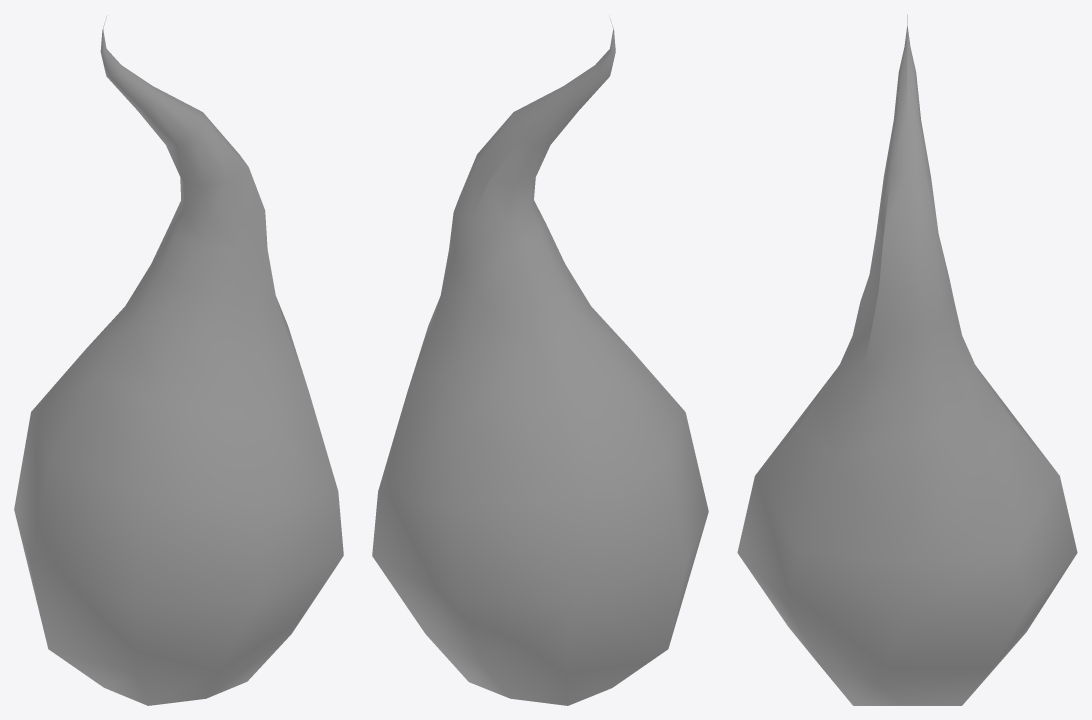
File: FunkyFloorlight_On.glb
3 views of the same model, side by side, from view 1: azimuth 30°, elevation 25°; view 2: azimuth 150°, elevation 25°; view 3: azimuth 270°, elevation 25° (orthographic). The views are drawn at different scales.
Parts seen in each view (by area): view 1: funkyFloorLight_On.001; view 2: funkyFloorLight_On.001; view 3: funkyFloorLight_On.001.
Boxes of the visible parts, x1,y1,x2,y2 form: funkyFloorLight_On.001: [14, 15, 343, 705]; funkyFloorLight_On.001: [372, 17, 708, 705]; funkyFloorLight_On.001: [737, 14, 1077, 705].
Size of what is drawn, in the model's own units: 0.855 by 1.92 by 0.9247.
Materials: 1 (1 with a texture image).
